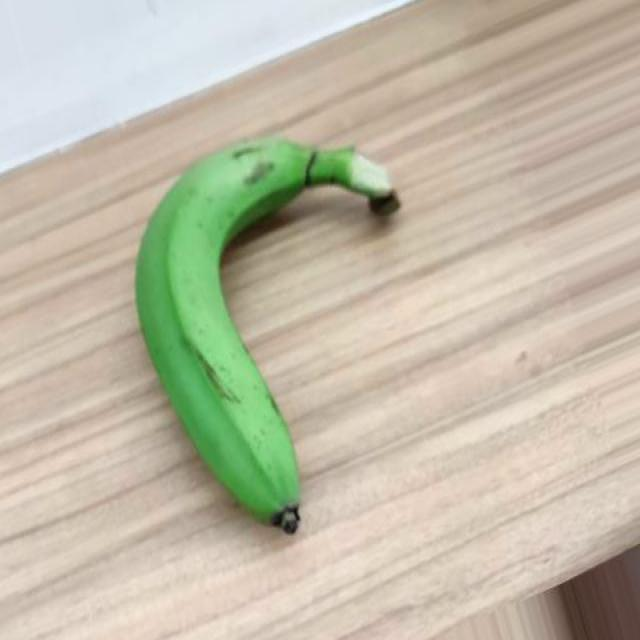Unripe: (134, 132, 401, 535)
